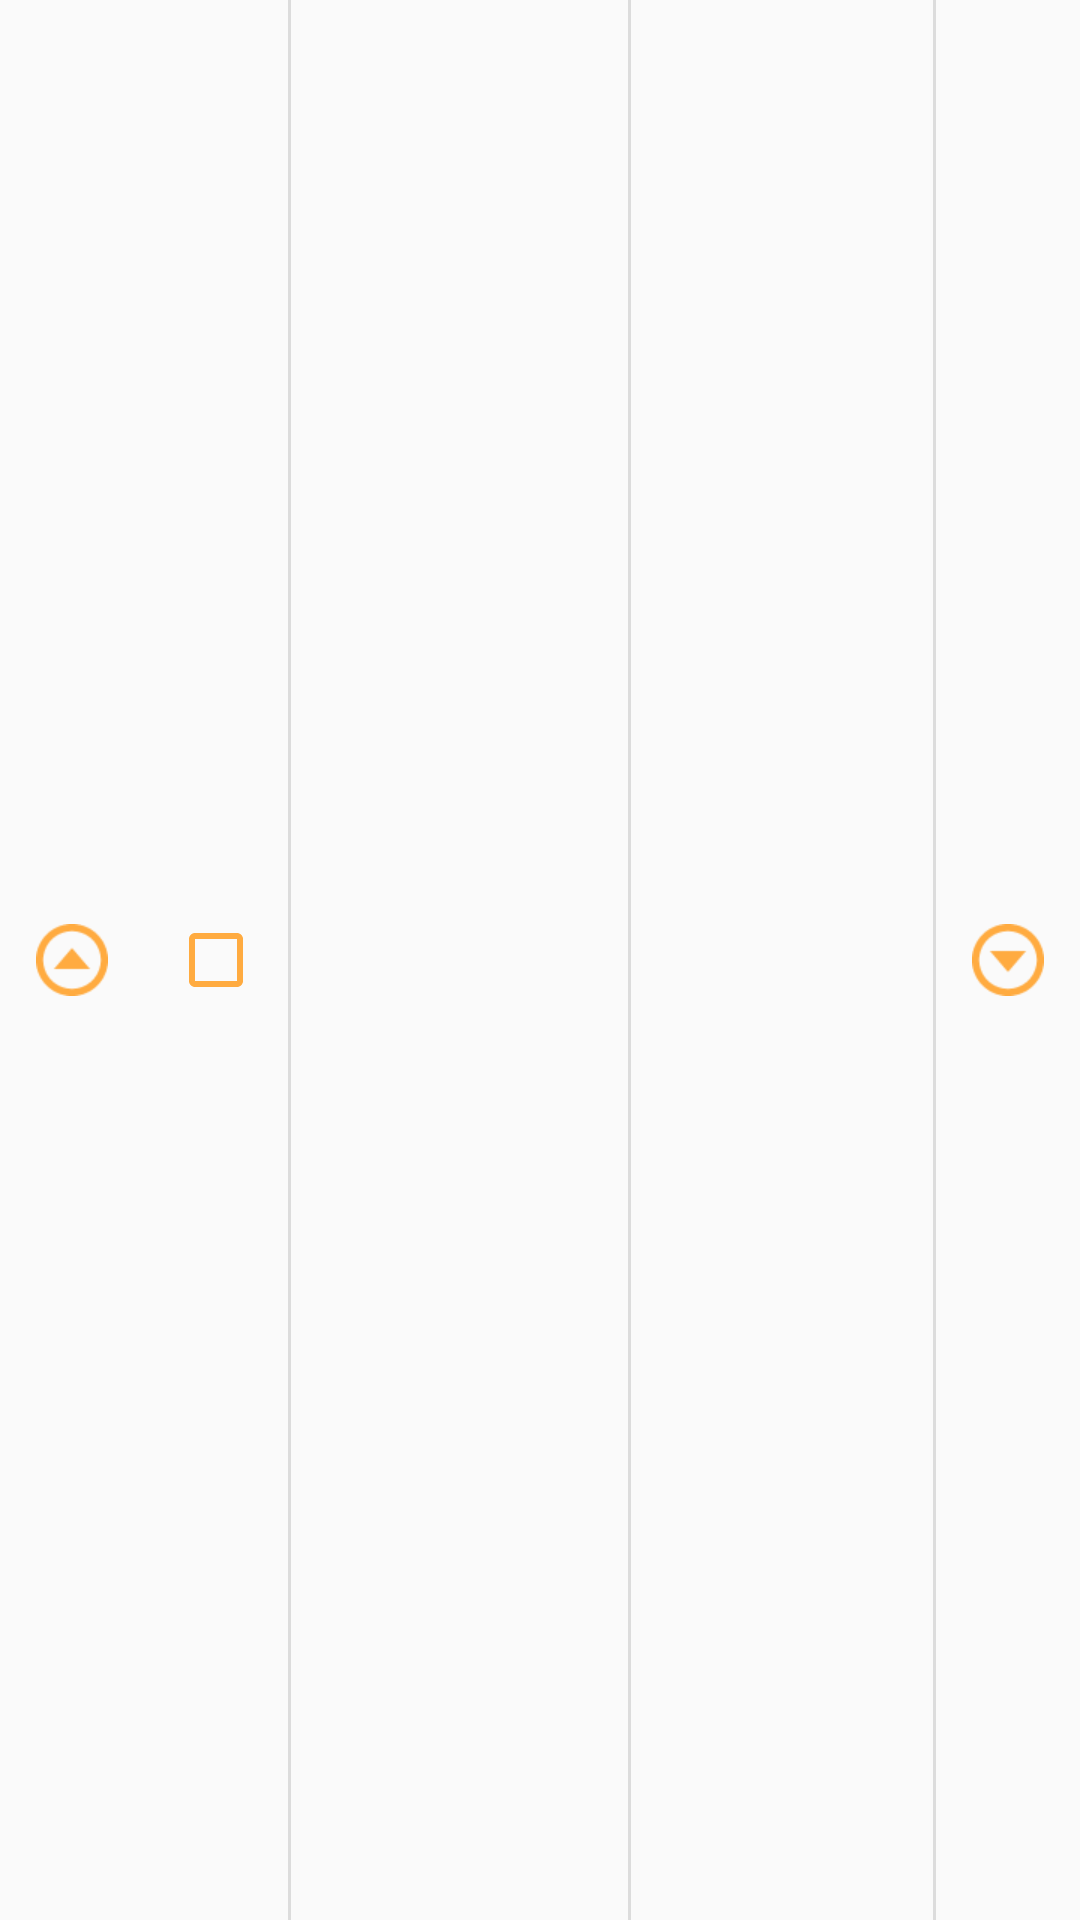

Locate icon controls on the screen. Image size 1080x1920, boxes as bbox(x1, y1, x2, y2).
Move down: bbox(972, 924, 1044, 996)
Move up: bbox(36, 924, 108, 996)
